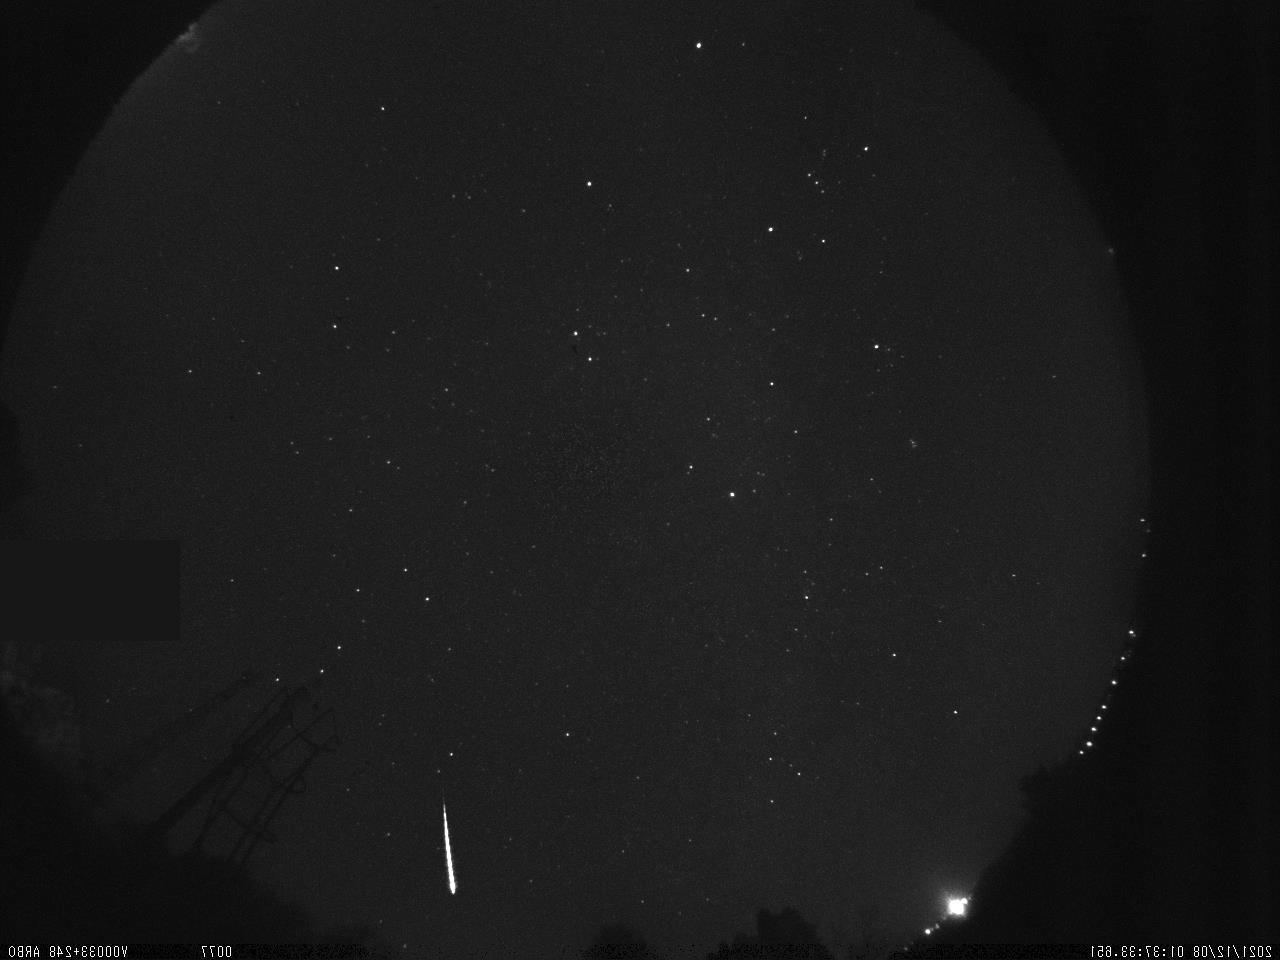meteor: (403, 787, 483, 915)
